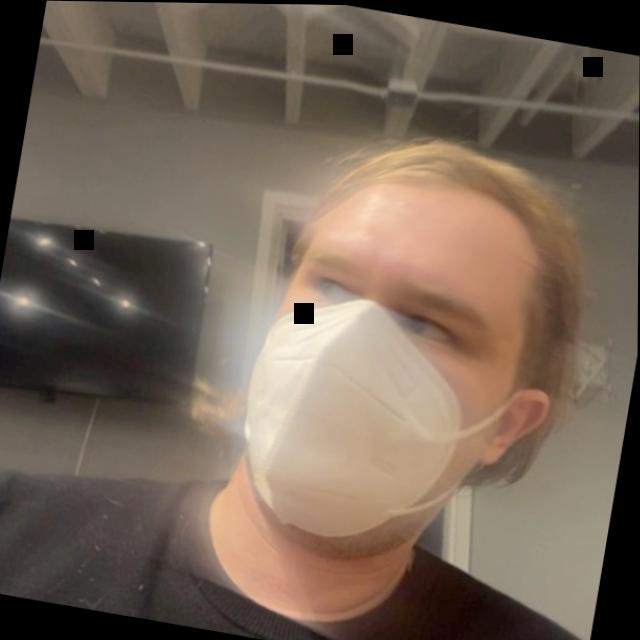Mask: (137, 90, 639, 640)
